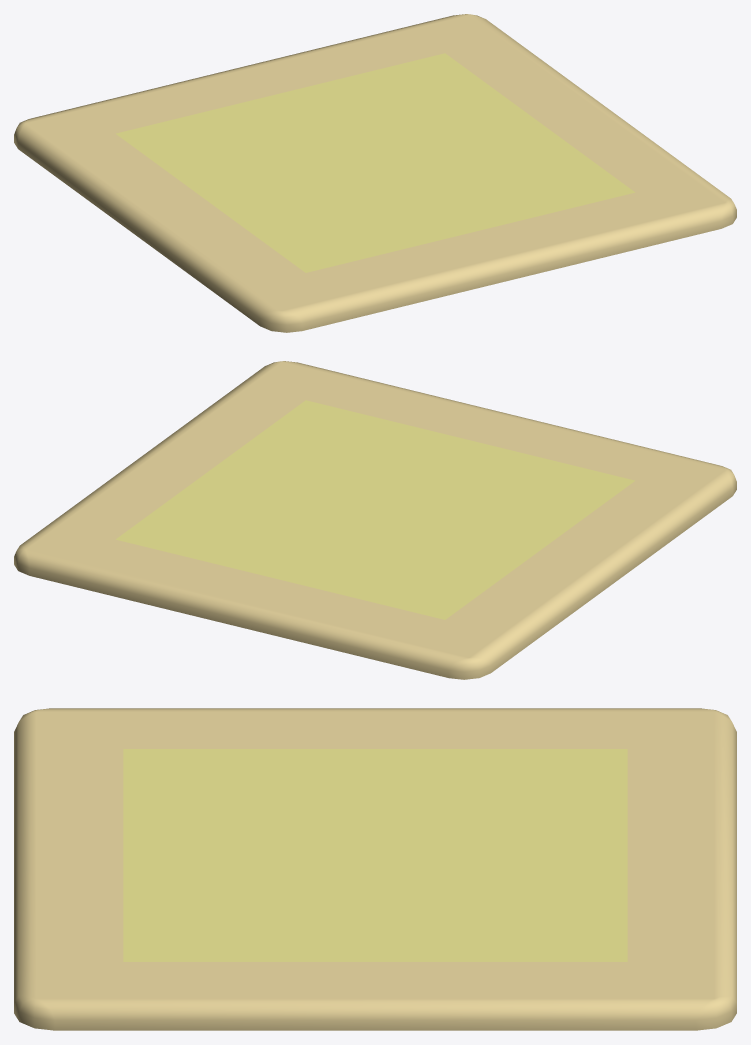
Rendered from Ring.fbx.
3 renders of one model, top to bottom at view 1: azimuth 30°, elevation 25°; view 2: azimuth 150°, elevation 25°; view 3: azimuth 270°, elevation 25°, orthographic. The views are drawn at different scales.
Visible parts, largest first — view 1: Ring; view 2: Ring; view 3: Ring.
Boxes of the visible parts, left/top/right/bottom form: Ring: left=14, top=14, right=736, bottom=332; Ring: left=14, top=361, right=736, bottom=679; Ring: left=14, top=708, right=736, bottom=1030.
Bounding box in the file's own units: 2352 × 80.76 × 2352.
